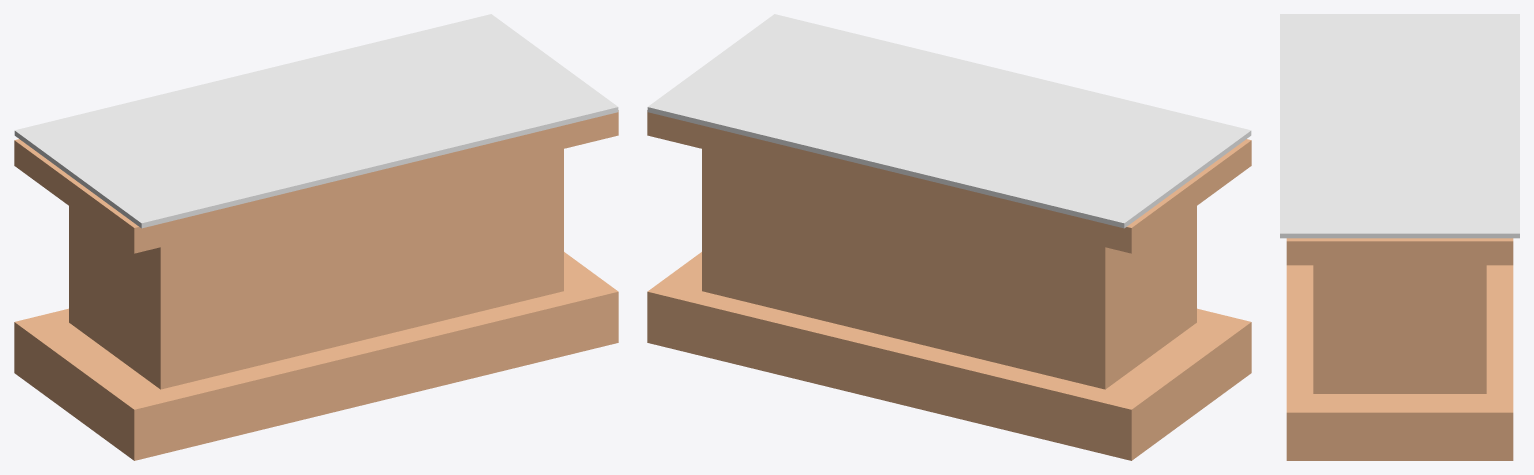
3 views of the same model, side by side, from view 1: azimuth 30°, elevation 25°; view 2: azimuth 150°, elevation 25°; view 3: azimuth 270°, elevation 25° (orthographic). The views are drawn at different scales.
Parts seen in each view (by area): view 1: Altar, Altar cloth, Base, Top; view 2: Altar, Altar cloth, Base, Top; view 3: Altar cloth, Base, Altar, Top.
Boxes of the visible parts, x1,y1,x2,y2 form: Altar: (69,149,563,389); Altar cloth: (14,14,618,228); Base: (14,252,618,460); Top: (14,110,618,253); Altar: (702,149,1196,389); Altar cloth: (647,14,1251,228); Base: (647,252,1251,460); Top: (647,110,1251,253); Altar cloth: (1280,14,1519,238); Base: (1286,265,1513,460); Altar: (1313,265,1486,393); Top: (1286,238,1513,265).
Bounding box in the file's own units: 198 × 93.5 × 90.
